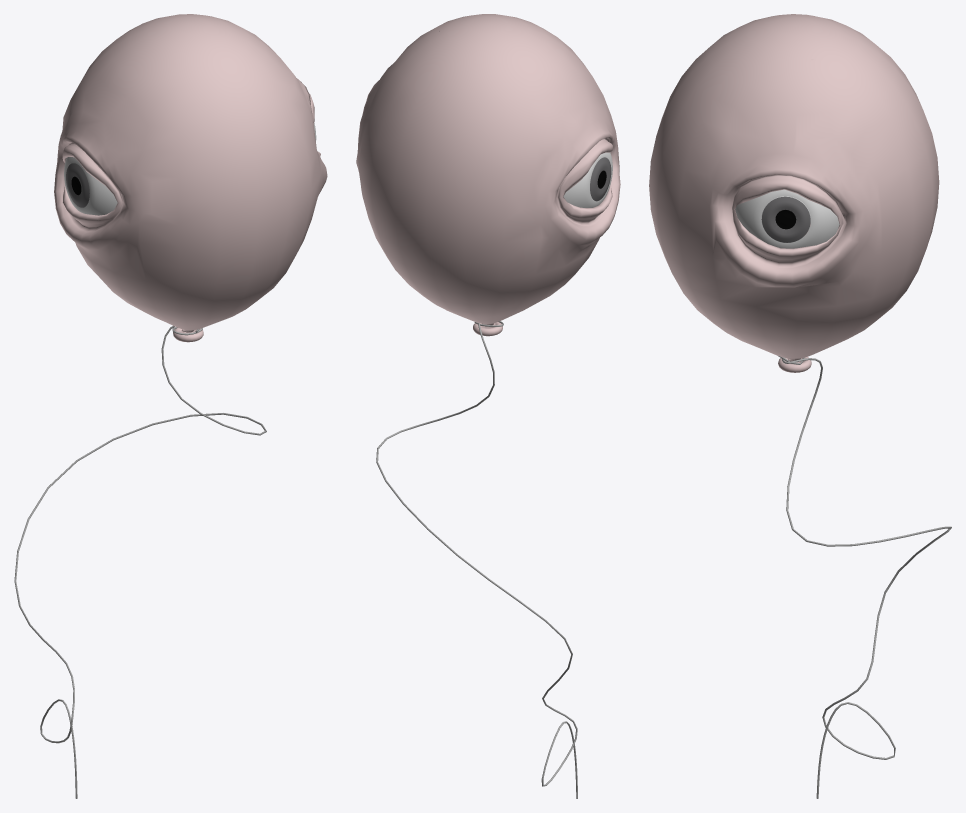
File: 2eye.gltf
3 renders of one model, left to right at view 1: azimuth 30°, elevation 25°; view 2: azimuth 150°, elevation 25°; view 3: azimuth 270°, elevation 25°, orthographic. The views are drawn at different scales.
Parts seen in each view (by area): view 1: 2eye; view 2: 2eye; view 3: 2eye.
Boxes of the visible parts, bbox=[...] form: 2eye: bbox=[14, 14, 327, 798]; 2eye: bbox=[356, 14, 620, 798]; 2eye: bbox=[649, 14, 951, 798].
Size of the model in its own units: 5.29 by 15.38 by 5.1.
